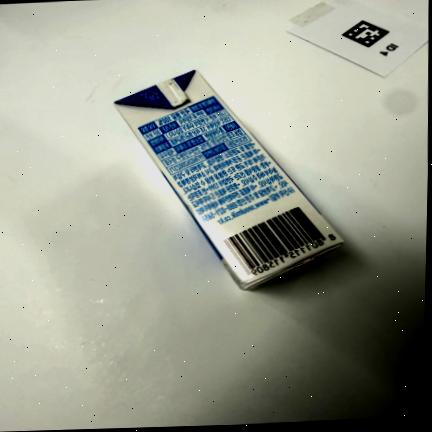milk_blue: (114, 70, 343, 290)
